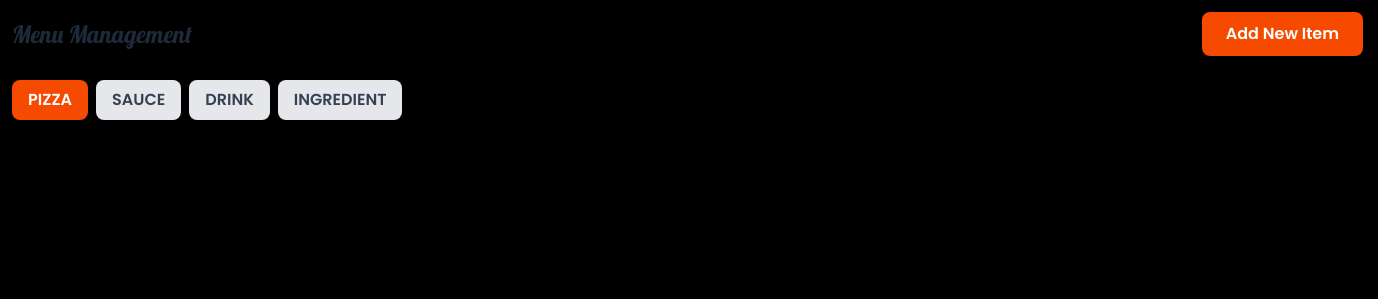
Test case: MenuManager - ingredient integration › adds a new ingredient and shows success message
// Przełącz na zakładkę składników
Click the button "INGREDIENT" at (340, 100), box [278, 80, 402, 120]
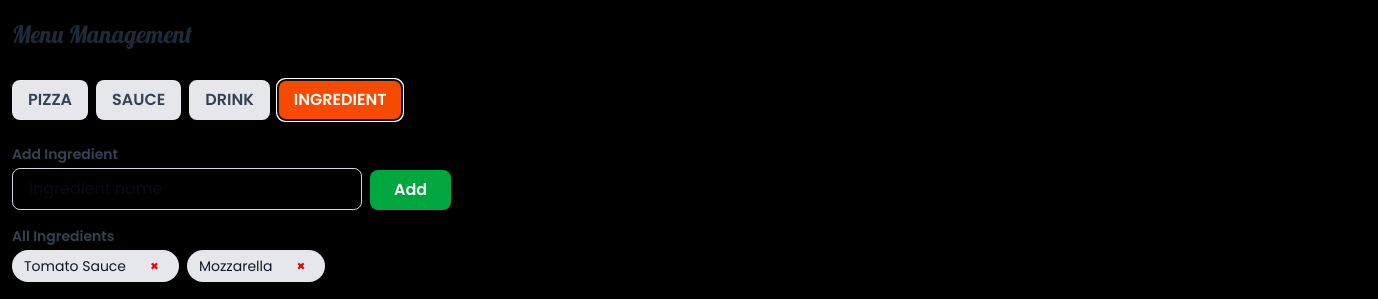
Type "Basil" into the field with placeholder "Ingredient name" at (187, 189), box [12, 168, 362, 210]
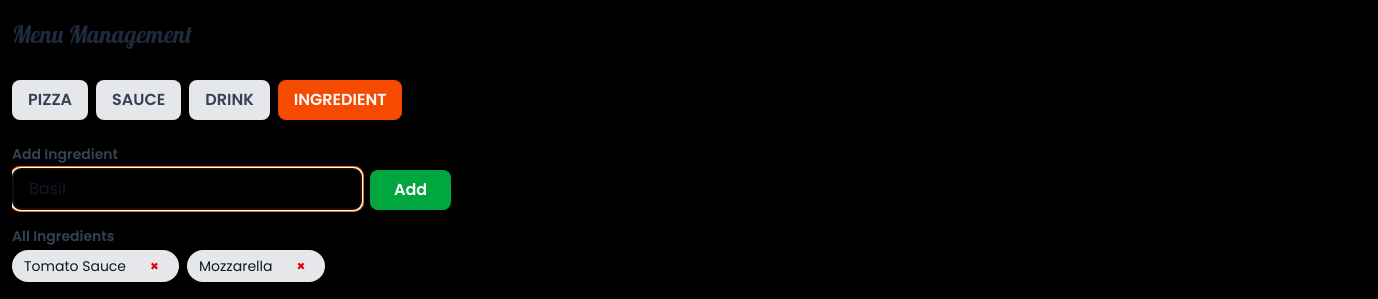
Click the button "Add" at (411, 190), box [370, 170, 451, 210]
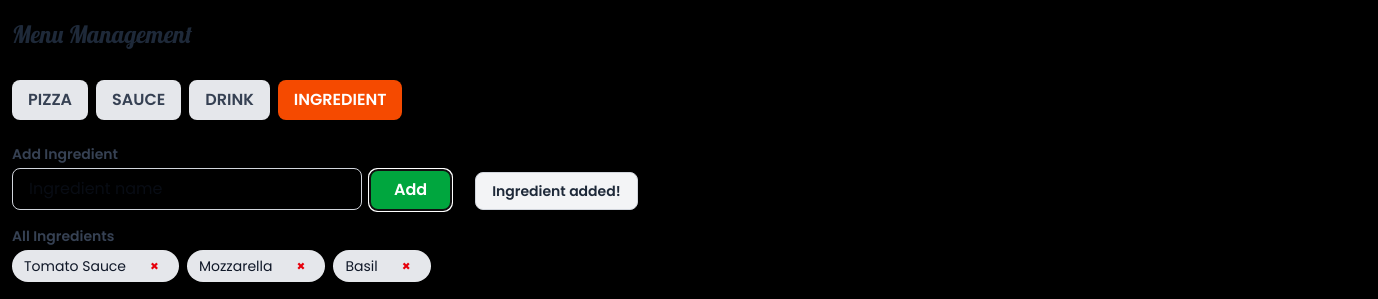
Now the text "Ingredient added!" is shown, box [475, 172, 638, 210]
Now the field with placeholder "Ingredient name" is empty, box [12, 168, 362, 210]
Now the text "Basil ×" is shown, box [333, 250, 431, 282]
